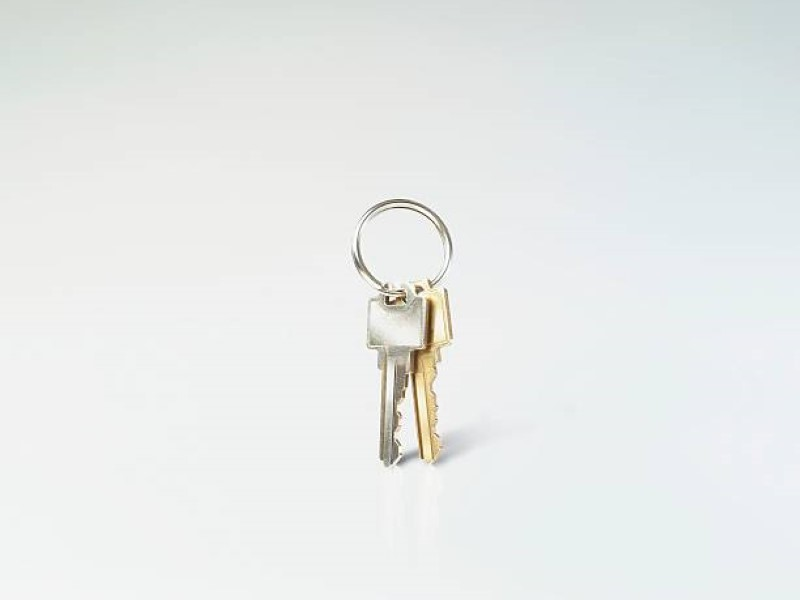key: (361, 274, 463, 473)
